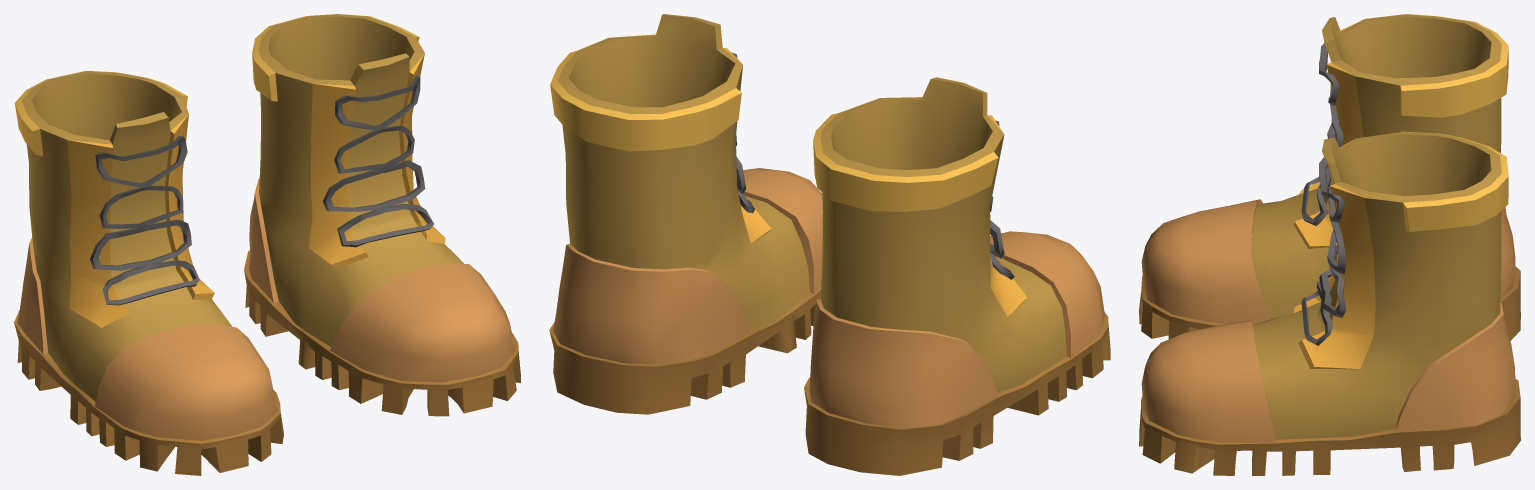
File: Shoes_17_01.fbx
3 renders of one model, left to right at view 1: azimuth 30°, elevation 25°; view 2: azimuth 150°, elevation 25°; view 3: azimuth 270°, elevation 25°, orthographic. The views are drawn at different scales.
Visible parts, largest first — view 1: Shoes_17_01; view 2: Shoes_17_01; view 3: Shoes_17_01.
Part boxes in pixels (bbox=[...]): Shoes_17_01: bbox=[14, 14, 520, 475]; Shoes_17_01: bbox=[549, 14, 1110, 475]; Shoes_17_01: bbox=[1139, 14, 1520, 475].
Bounding box in the file's own units: 29.81 × 20.56 × 24.51.
